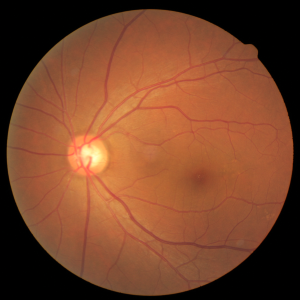glaucoma: (36, 106, 241, 219)
